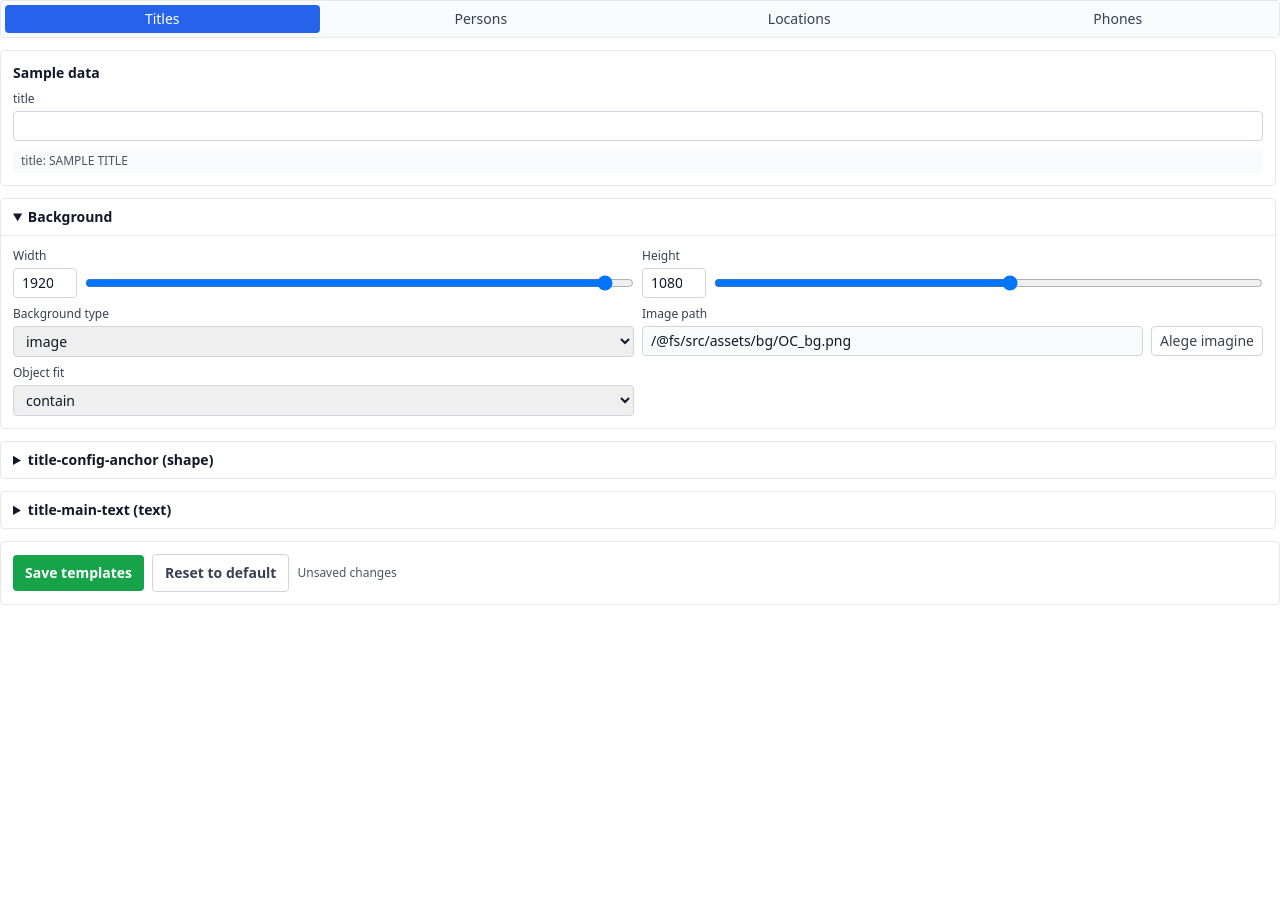
Scenario: TemplateEditorPanel › shows a warning when local save succeeds but dev default update fails
What coordinates should you click on to do the following:
click the button "Save templates"
I would click on:
 (78, 573)
Its box is [13,555,144,591].
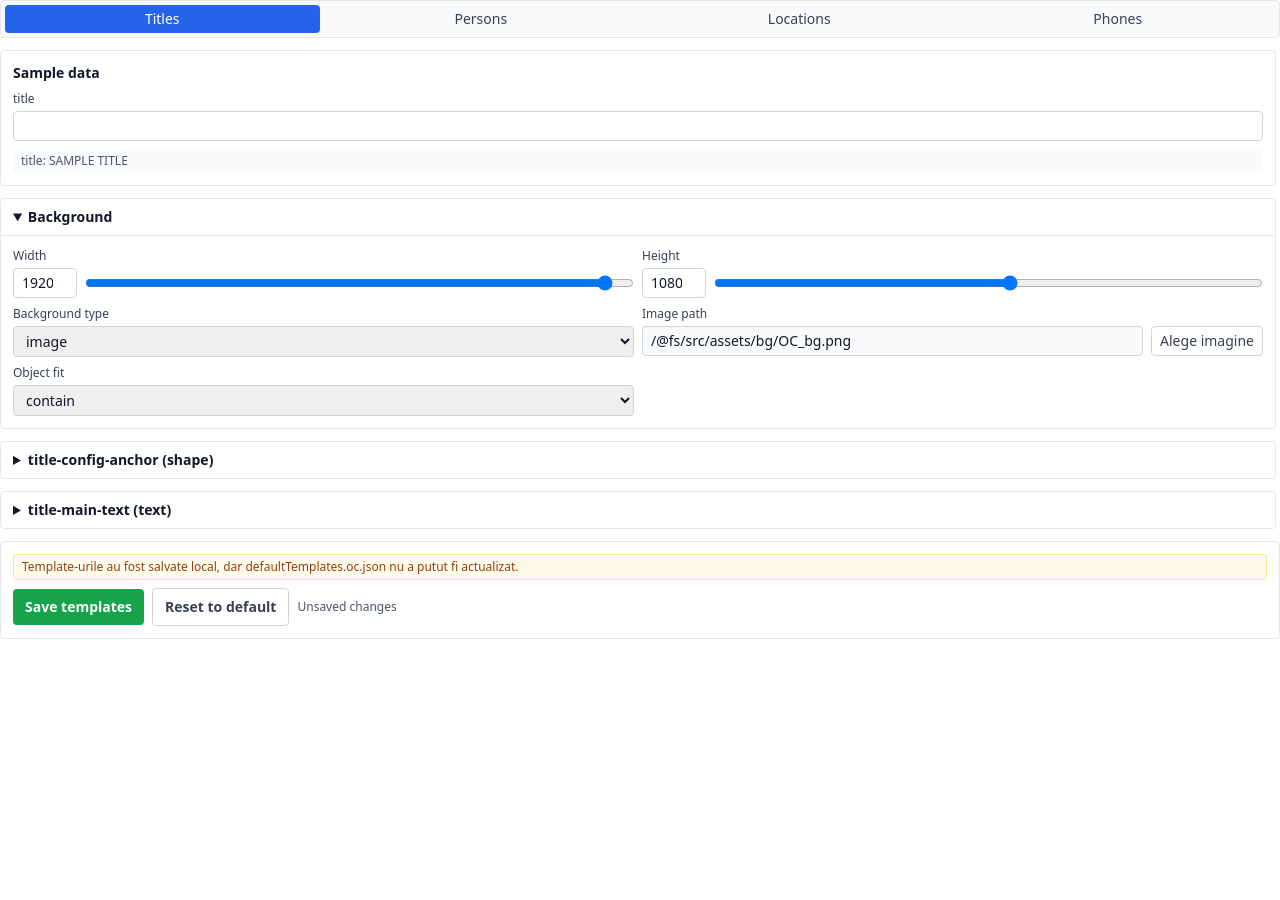
Check: the text "Template-urile au fost salvate local, dar defaultTemplates.oc.json nu a putut fi actualizat." is shown, box [22,558,518,575]
